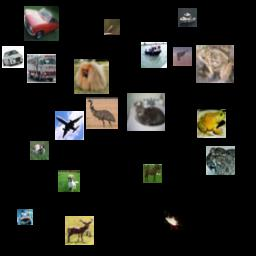airplane: (55, 111, 84, 140), (173, 47, 192, 66)
automobile: (24, 6, 59, 41), (2, 46, 24, 68)
bird: (86, 97, 118, 129), (104, 19, 120, 35)
cat: (127, 93, 165, 131), (30, 141, 49, 160), (164, 211, 183, 230)
deer: (65, 216, 94, 245)
dog: (74, 59, 109, 94), (58, 170, 80, 192)
frog: (196, 45, 234, 83), (206, 146, 235, 175), (197, 109, 226, 138), (17, 209, 33, 225)
ship: (141, 42, 167, 68), (178, 8, 197, 27)
truck: (27, 54, 56, 83)
